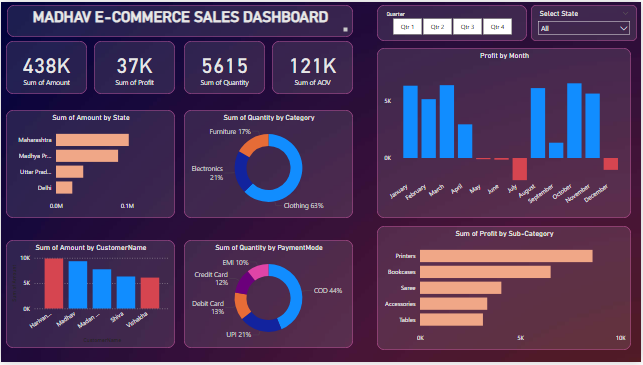

Layout of this report page (visuals, bound fields, positions):
{"tool":"powerbi","page":{"name":"Page 1","canvas":[1280,720],"ordinal":0},"visuals":[{"type":"textbox","title":"MADHAV E-COMMERCE SALES  DASHBOARD","box":[12,6,692,64],"z":0},{"type":"columnChart","title":"Profit by Month","fields":{"Y":["Sum(Details.Profit)"],"Category":["Orders.Order Date.Variation.Date Hierarchy.Month"]},"box":[752,92,508,340],"z":1},{"type":"barChart","fields":{"Category":["Details.Sub-Category"],"Y":["Sum(Details.Profit)"]},"box":[752,448,508,248],"z":2},{"type":"donutChart","fields":{"Category":["Details.Category"],"Y":["Sum(Details.Quantity)"]},"box":[366,216,338,216],"z":3},{"type":"donutChart","fields":{"Y":["Sum(Details.Quantity)"],"Category":["Details.PaymentMode"]},"box":[366,476,338,216],"z":4},{"type":"card","fields":{"Values":["Sum(Details.Amount)"]},"box":[10,78,162,106],"z":5},{"type":"card","fields":{"Values":["Sum(Details.Quantity)"]},"box":[366,78,162,106],"z":6},{"type":"card","fields":{"Values":["Sum(Details.Profit)"]},"box":[186,78,162,106],"z":7},{"type":"card","fields":{"Values":["Sum(Details.AOV)"]},"box":[542,78,162,106],"z":8},{"type":"barChart","fields":{"Category":["Orders.State"],"Y":["Sum(Details.Amount)"]},"box":[10,216,338,216],"z":9},{"type":"columnChart","fields":{"Category":["Orders.CustomerName"],"Y":["Sum(Details.Amount)"]},"box":[10,476,338,216],"z":10},{"type":"slicer","fields":{"Values":["Orders.Order Date.Variation.Date Hierarchy.Quarter"]},"box":[752,6,300,72],"z":11},{"type":"slicer","fields":{"Values":["Orders.State"]},"box":[1060,6,212,72],"z":12}]}

Visuals, with their boxes in screenshot pixels (x1, y1, x2, y2), scaled from the page's 1280x720 canvas onto the 643x365 screenshot:
"MADHAV E-COMMERCE SALES  DASHBOARD" textbox: crop(6, 3, 354, 35)
"Profit by Month" columnChart: crop(378, 47, 633, 219)
barChart - Details.Sub-Category x Sum(Details.Profit): crop(378, 227, 633, 353)
donutChart - Details.Category x Sum(Details.Quantity): crop(184, 110, 354, 219)
donutChart - Sum(Details.Quantity) x Details.PaymentMode: crop(184, 241, 354, 351)
card - Sum(Details.Amount): crop(5, 40, 86, 93)
card - Sum(Details.Quantity): crop(184, 40, 265, 93)
card - Sum(Details.Profit): crop(93, 40, 175, 93)
card - Sum(Details.AOV): crop(272, 40, 354, 93)
barChart - Orders.State x Sum(Details.Amount): crop(5, 110, 175, 219)
columnChart - Orders.CustomerName x Sum(Details.Amount): crop(5, 241, 175, 351)
slicer - Orders.Order Date.Variation.Date Hierarchy.Quarter: crop(378, 3, 528, 40)
slicer - Orders.State: crop(532, 3, 639, 40)
